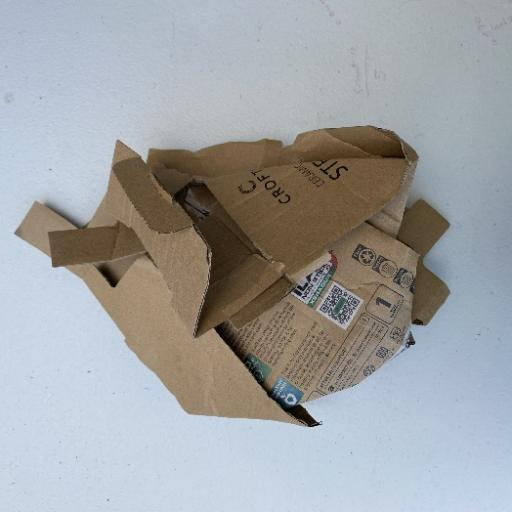Cardboard: (14, 123, 453, 428)
